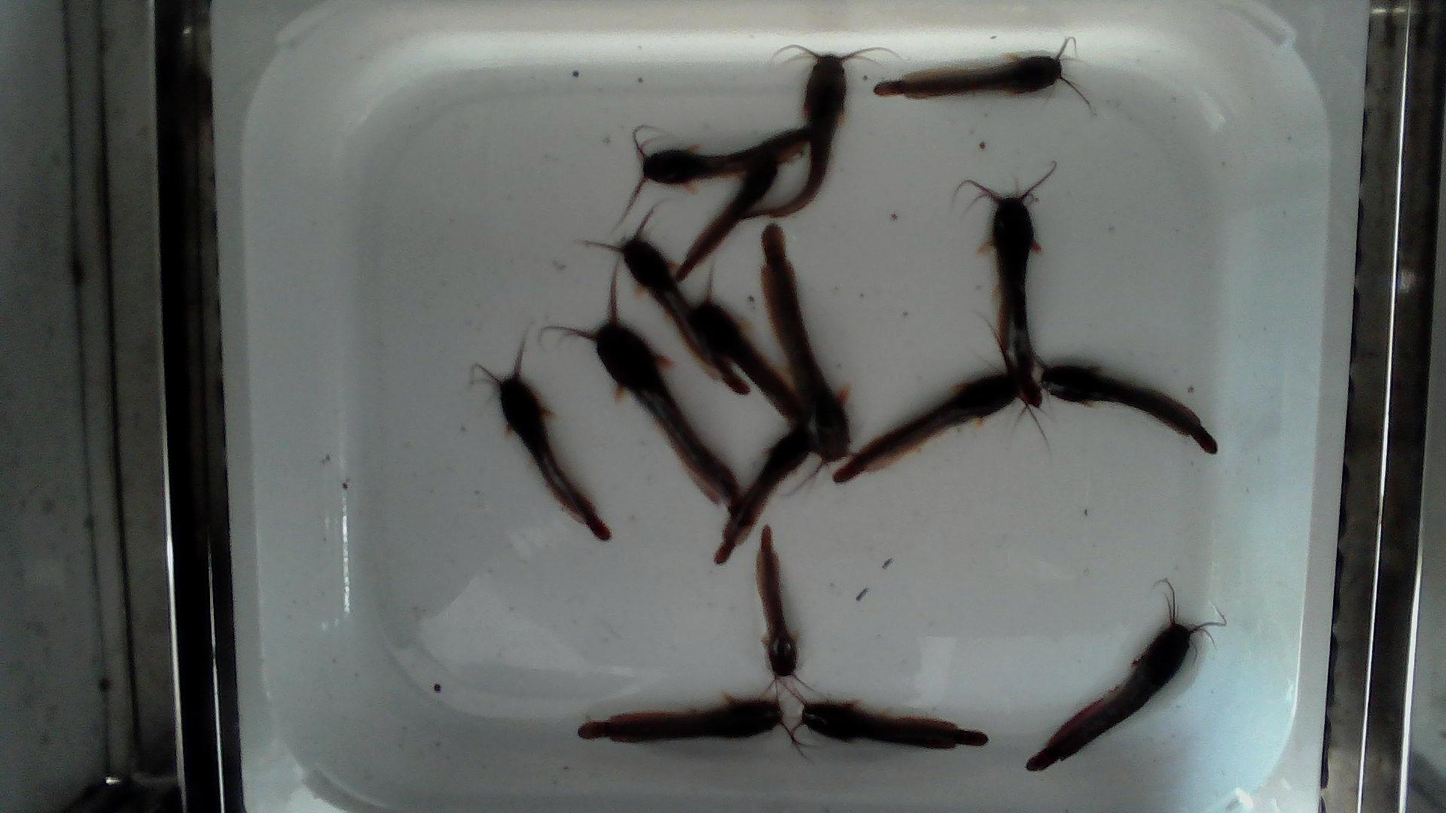lele: (586, 206, 753, 394), (1027, 609, 1207, 770), (590, 320, 739, 501), (742, 43, 887, 218), (830, 373, 1021, 488), (762, 224, 850, 461), (498, 371, 609, 538), (620, 128, 810, 225), (1042, 364, 1216, 453), (676, 153, 780, 282), (717, 427, 811, 563), (691, 300, 797, 418), (991, 196, 1039, 405), (578, 698, 780, 742), (801, 703, 987, 748), (874, 56, 1061, 98), (758, 526, 797, 677)
